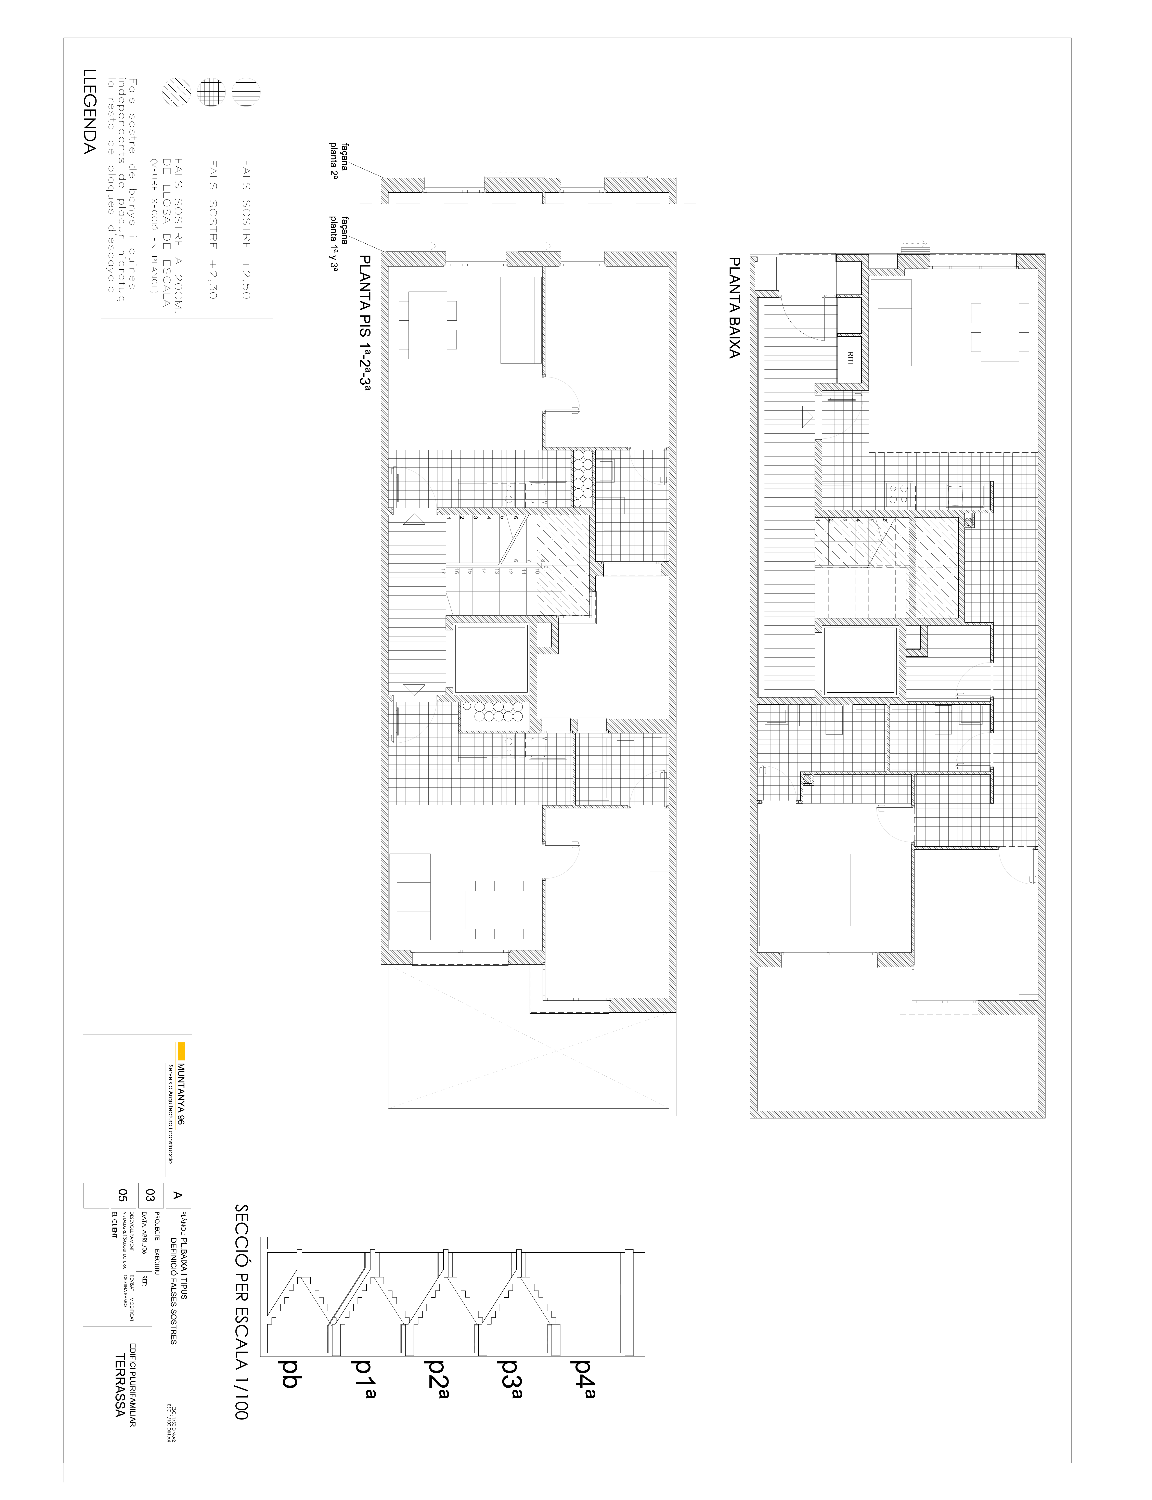door: (997, 846, 1036, 884)
